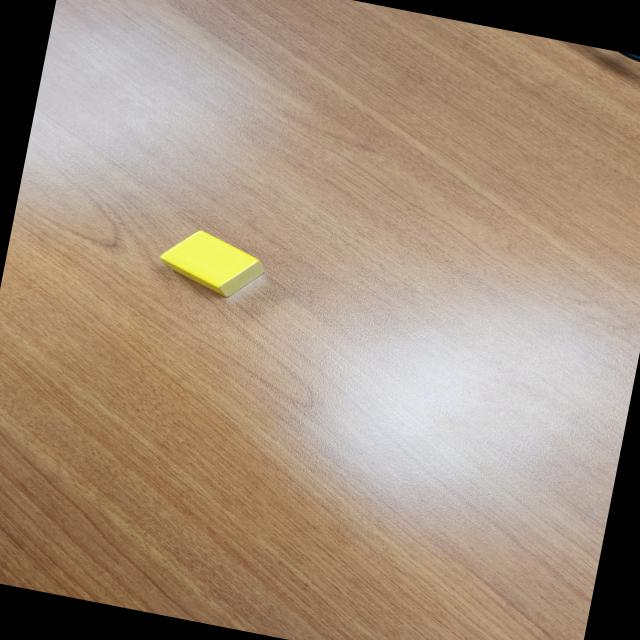yellow: (155, 223, 271, 303)
